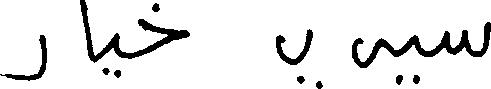X: (140, 0, 186, 60), (0, 30, 43, 85), (277, 24, 311, 88), (444, 17, 490, 61), (353, 33, 385, 72), (82, 0, 91, 65), (408, 30, 418, 88), (113, 28, 119, 82)
